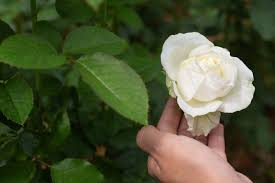rose: (159, 28, 258, 138)
